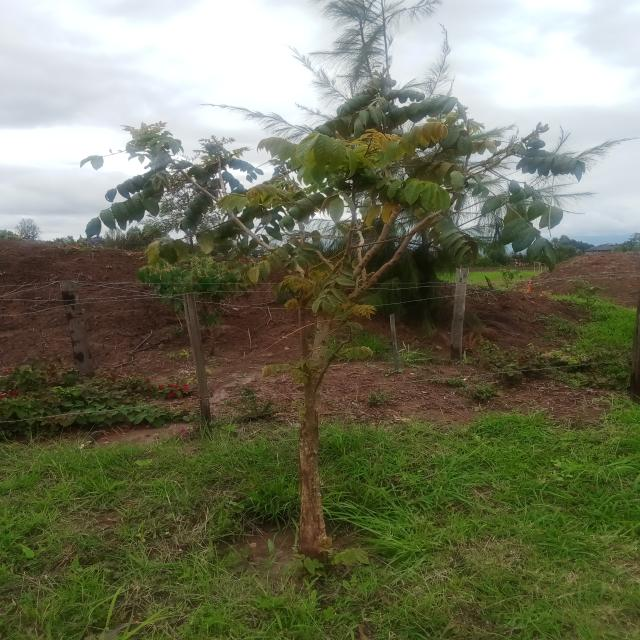Polyscias Kikuyensis: (105, 82, 598, 588)
